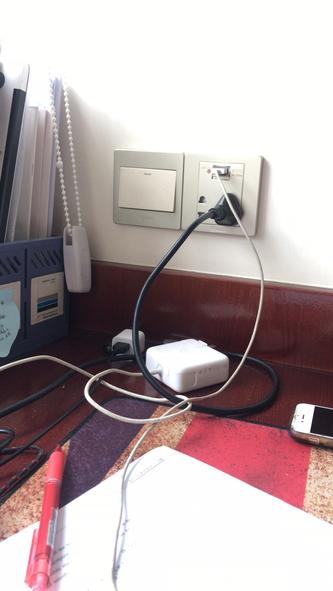switch: (116, 158, 181, 216)
